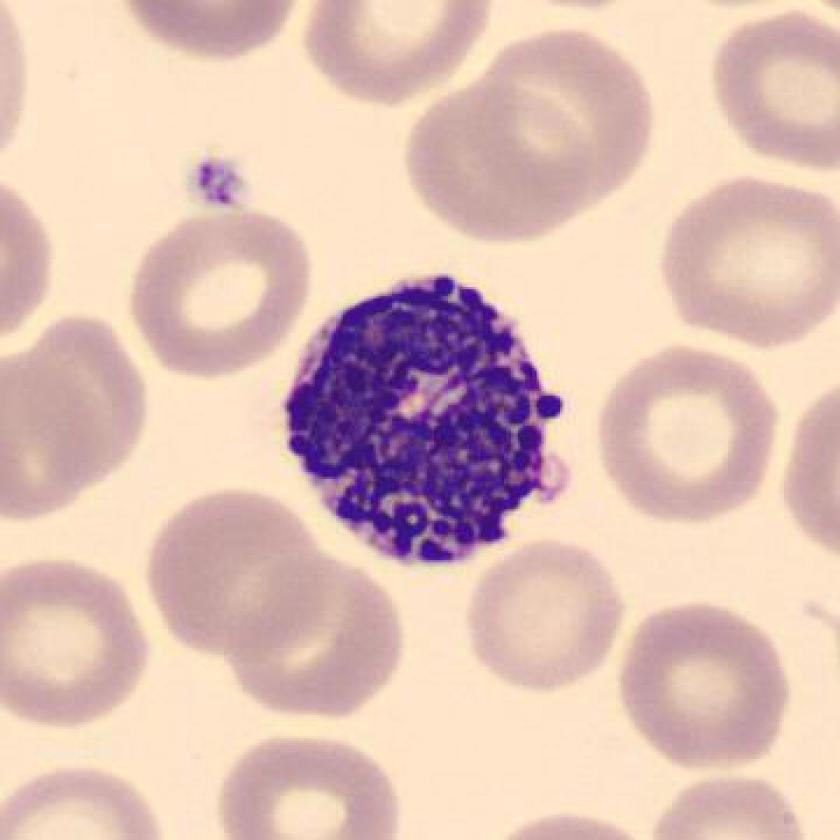basophil: (279, 269, 561, 568)
